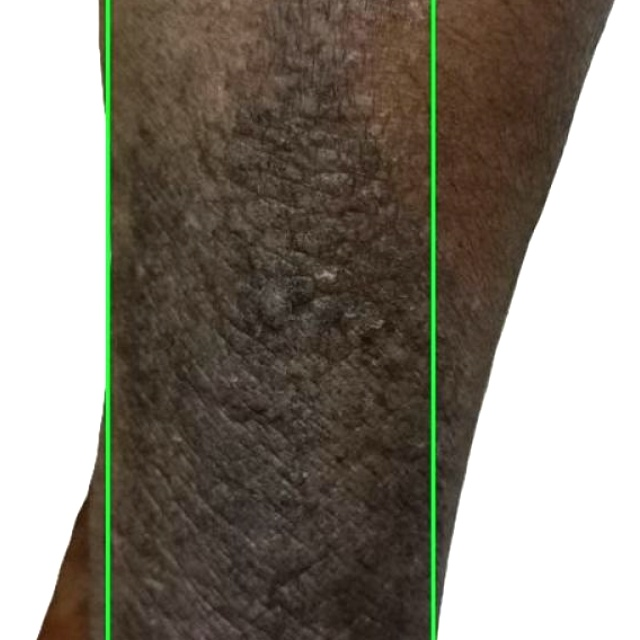Eczema: (433, 0, 639, 639), (0, 0, 107, 639)
